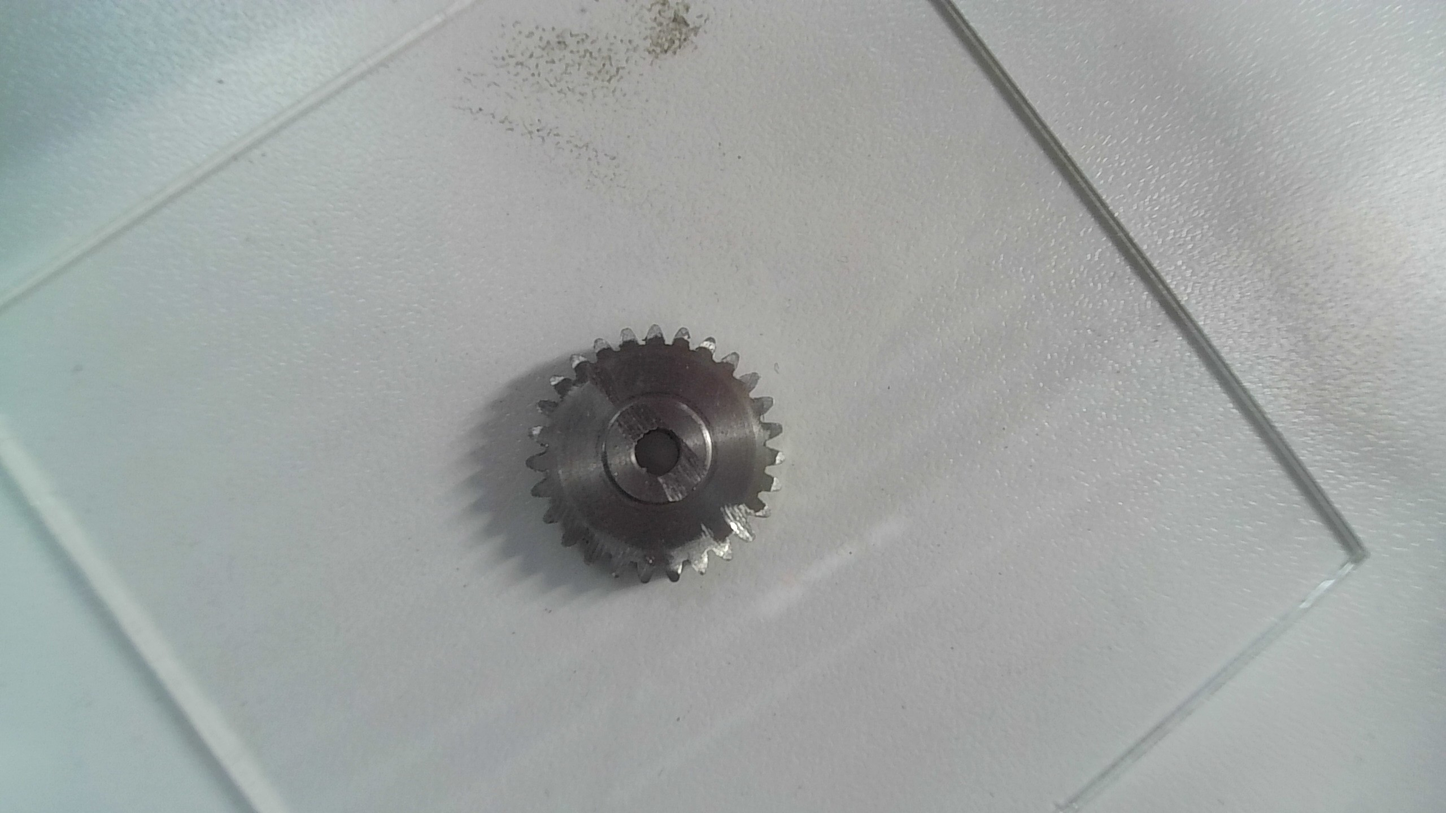gear: (522, 318, 795, 583)
